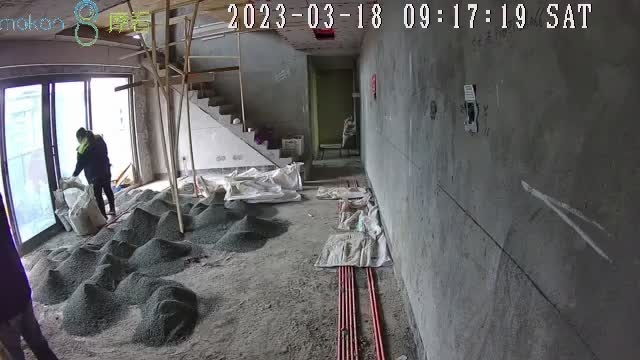people: (72, 126, 117, 220)
window: (3, 79, 136, 246)
